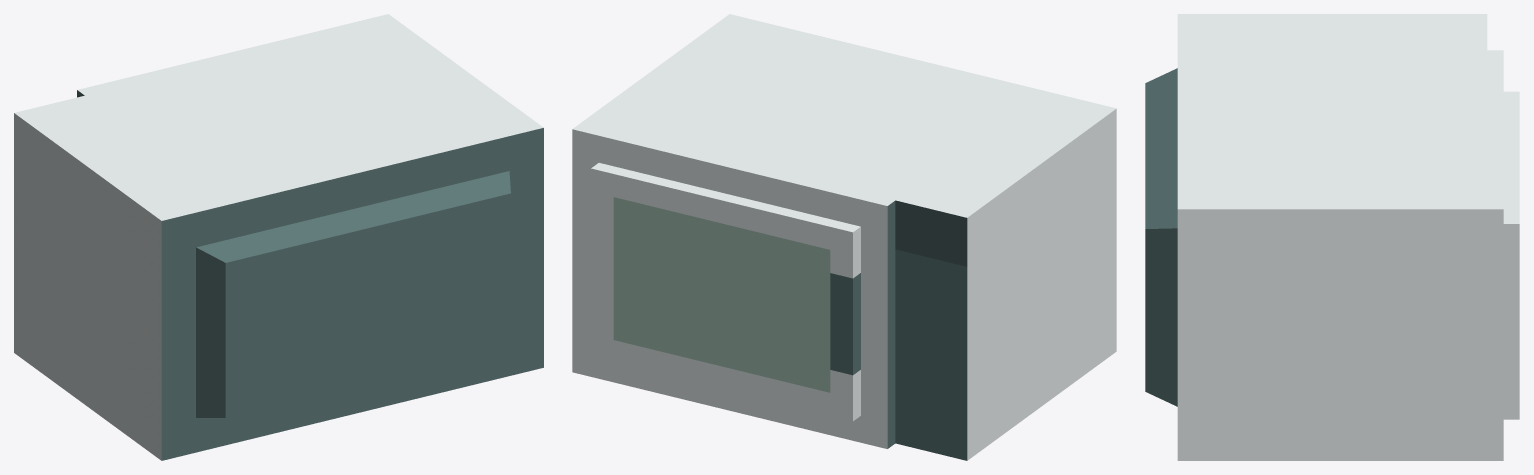
File: kitchen-microwave-countertop.glb
The picture shows the model from 3 angles, left to right: view 1: azimuth 30°, elevation 25°; view 2: azimuth 150°, elevation 25°; view 3: azimuth 270°, elevation 25°; orthographic projection. The views are drawn at different scales.
Visible parts, largest first — view 1: kitchenMicrowave; view 2: kitchenMicrowave, Group; view 3: kitchenMicrowave, Group.
Boxes of the visible parts, x1=… form: kitchenMicrowave: x1=14, y1=14, x2=543, y2=460; kitchenMicrowave: x1=572, y1=14, x2=1116, y2=460; Group: x1=591, y1=163, x2=860, y2=421; kitchenMicrowave: x1=1145, y1=14, x2=1503, y2=460; Group: x1=1503, y1=91, x2=1519, y2=419.
Bounding box in the file's own units: 0.5 × 0.3 × 0.405.
